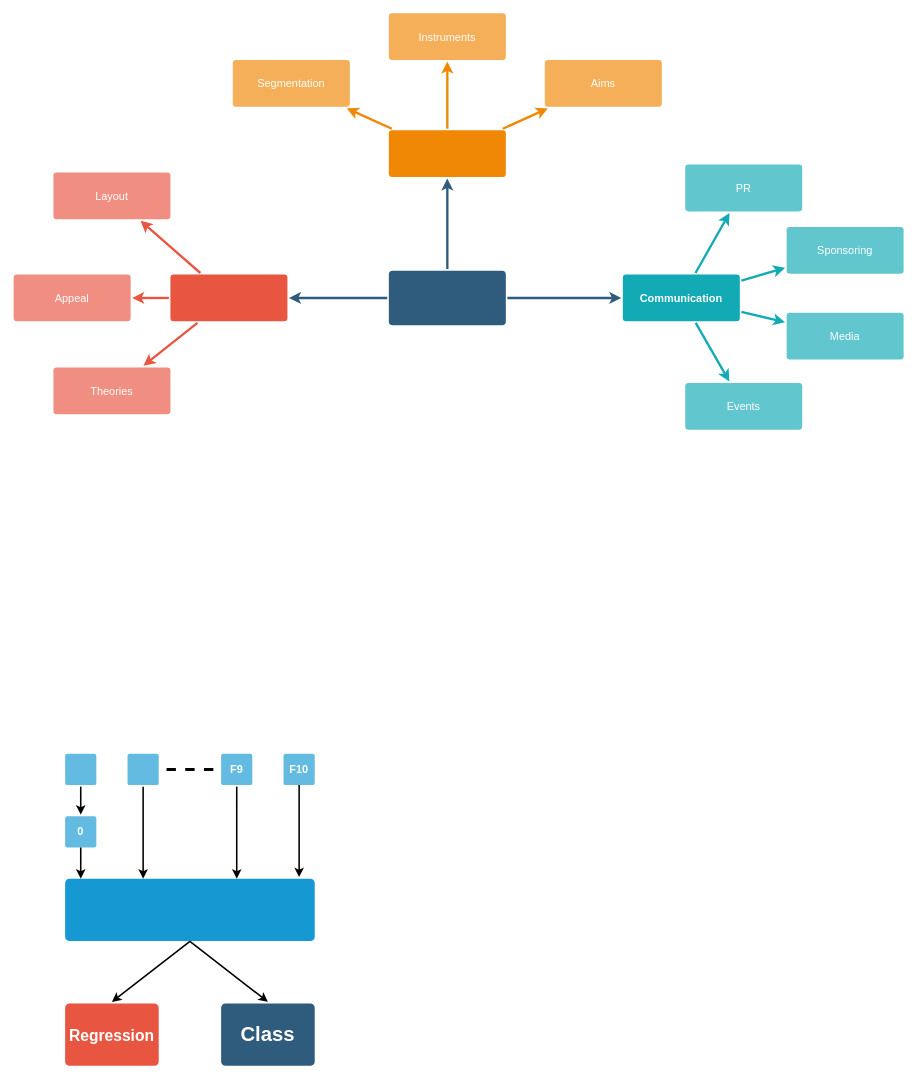
The diagram is 916 pixels wide and 1080 high, and some of its shapes have lost their labels. Each missing label, with the centre of its shape:
"Advertising" goes at [446,297].
"Embassy" goes at [228,297].
"F0" goes at [80,769].
"F1" goes at [142,769].
"Marketing" goes at [446,153].
"model" goes at [189,909].
